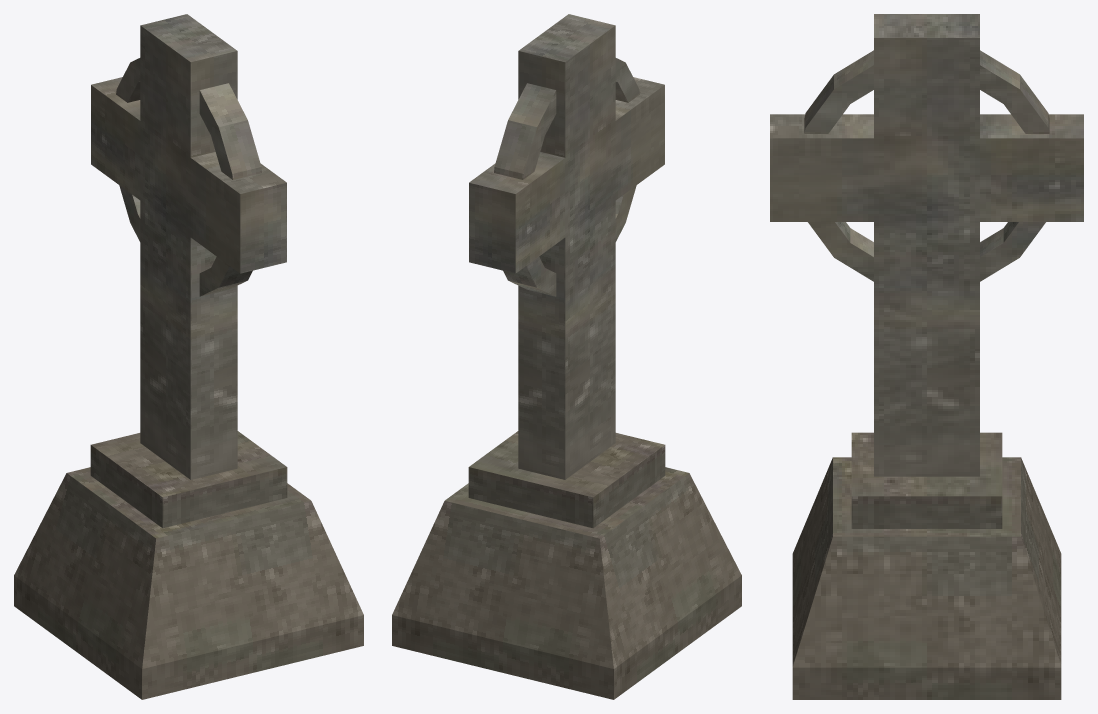
Rendered from Tumba_padre.glb.
The picture shows the model from 3 angles, left to right: view 1: azimuth 30°, elevation 25°; view 2: azimuth 150°, elevation 25°; view 3: azimuth 270°, elevation 25°; orthographic projection. The views are drawn at different scales.
Parts seen in each view (by area): view 1: Tumba principal; view 2: Tumba principal; view 3: Tumba principal.
Part boxes in pixels (x1,y1,x2,y2): Tumba principal: [14, 14, 363, 699]; Tumba principal: [392, 14, 741, 699]; Tumba principal: [770, 14, 1083, 699].
Bounding box in the file's own units: 1.5 × 3.8 × 1.75.
Materials: 2 (2 with a texture image).
